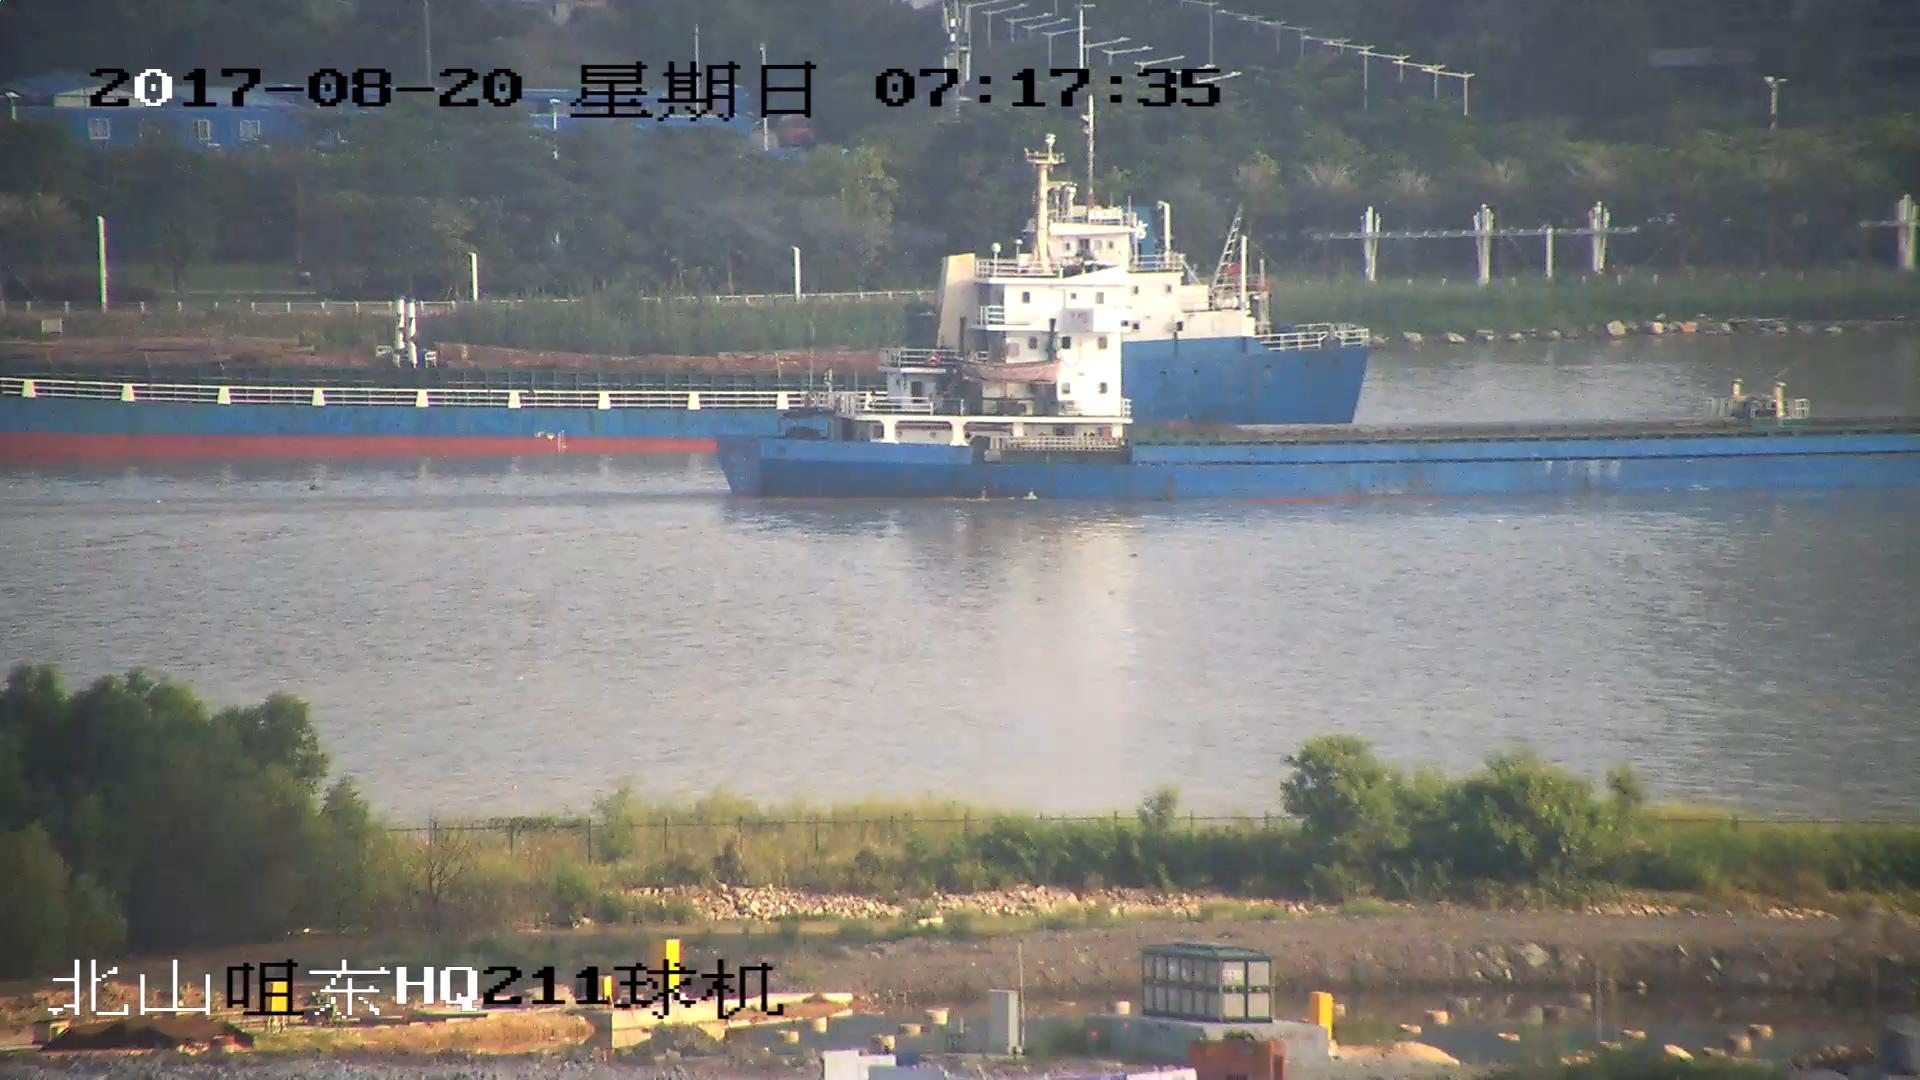general cargo ship: (1, 179, 1277, 460), (709, 268, 1920, 501)
